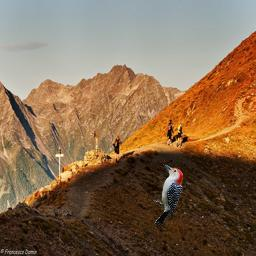Woodpecker: (153, 164, 183, 229)
